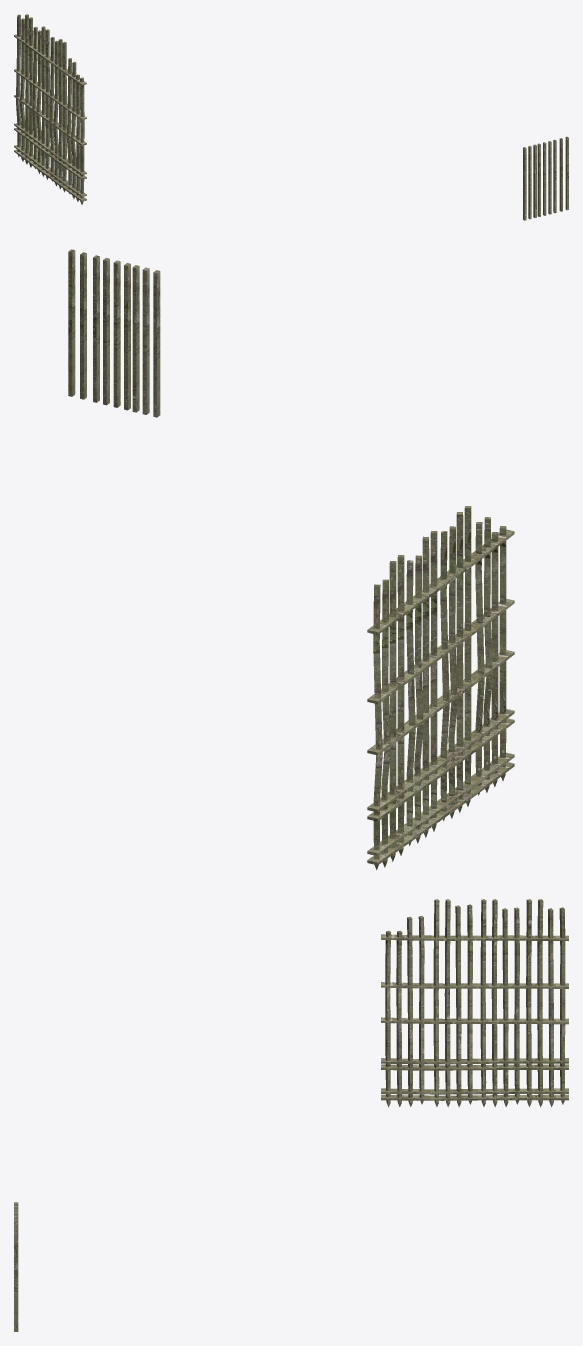
File: SM_Chateaux_06_09.fbx
3 views of the same model, one above another, from view 1: azimuth 30°, elevation 25°; view 2: azimuth 150°, elevation 25°; view 3: azimuth 270°, elevation 25° (orthographic). The views are drawn at different scales.
Visible parts, largest first — view 1: SM_Chateaux_06_09; view 2: SM_Chateaux_06_09; view 3: SM_Chateaux_06_09.
Boxes of the visible parts, box(x1,y1,x2,y2) form: SM_Chateaux_06_09: box(14, 14, 568, 220); SM_Chateaux_06_09: box(68, 249, 514, 870); SM_Chateaux_06_09: box(14, 899, 568, 1331).
Size of the model in its own units: 2289 by 927 by 2248.
